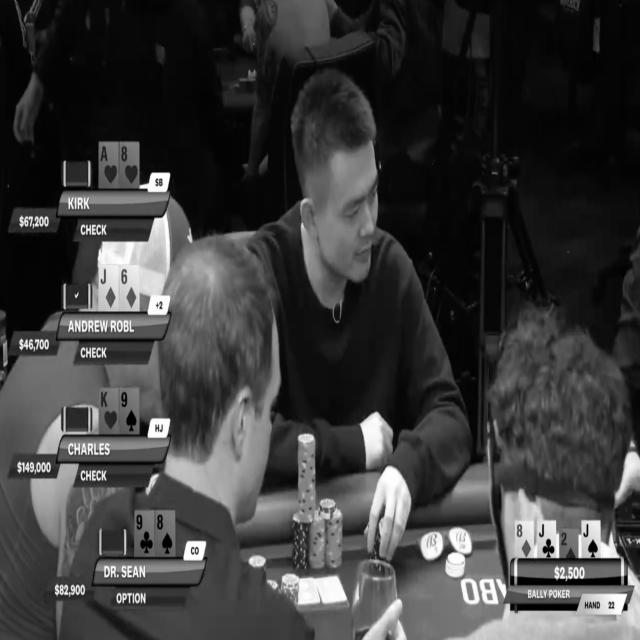2D: (560, 527, 579, 560)
6D: (118, 263, 138, 312)
8D: (516, 519, 534, 558)
8H: (119, 138, 139, 191)
8S: (155, 510, 176, 559)
9C: (133, 510, 155, 559)
9S: (119, 387, 139, 435)
AH: (97, 141, 119, 189)
JC: (538, 520, 558, 559)
JD: (98, 263, 118, 311)
JS: (583, 519, 601, 558)
KH: (98, 387, 119, 436)
